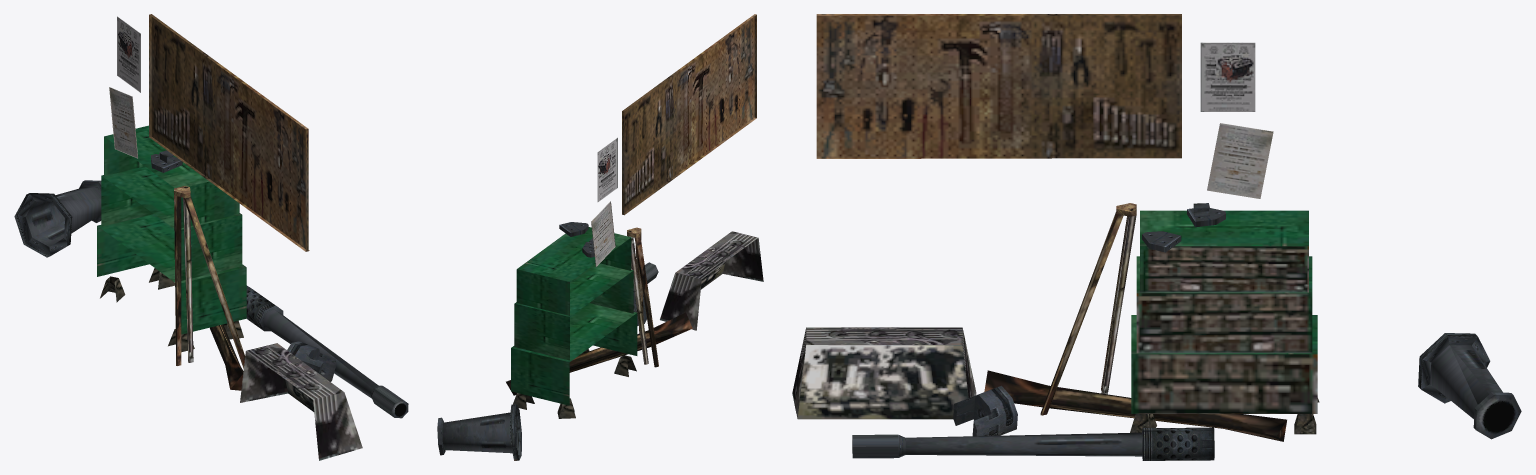
File: gtools02.glb
3 views of the same model, side by side, from view 1: azimuth 30°, elevation 25°; view 2: azimuth 150°, elevation 25°; view 3: azimuth 270°, elevation 25° (orthographic). The views are drawn at different scales.
Visible parts, largest first — view 1: _gtools02; view 2: _gtools02; view 3: _gtools02.
Boxes of the visible parts, left/top/right/bottom form: _gtools02: left=14, top=14, right=408, bottom=460; _gtools02: left=437, top=14, right=763, bottom=460; _gtools02: left=792, top=14, right=1521, bottom=460.
Size of the model in its own units: 1.02 by 2.59 by 4.44.
Materials: 2 (2 with a texture image).
